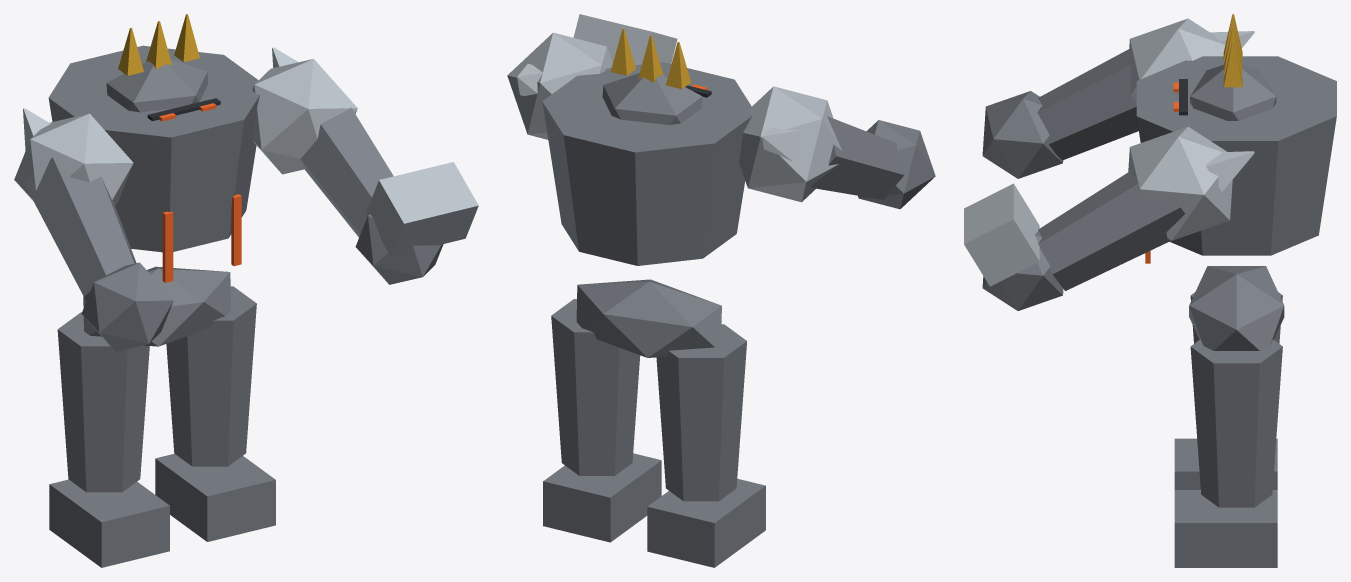
The model's file is npcpose_colossus_attack_02.glb.
3 views of the same model, side by side, from view 1: azimuth 30°, elevation 25°; view 2: azimuth 150°, elevation 25°; view 3: azimuth 270°, elevation 25° (orthographic).
Visible parts, largest first — view 1: npcpose; view 2: npcpose; view 3: npcpose.
Boxes of the visible parts, x1,y1,x2,y2 form: npcpose: (14,14,478,567); npcpose: (507,14,935,567); npcpose: (964,14,1336,567).
Bounding box in the file's own units: 2.3 × 3.09 × 2.1.
